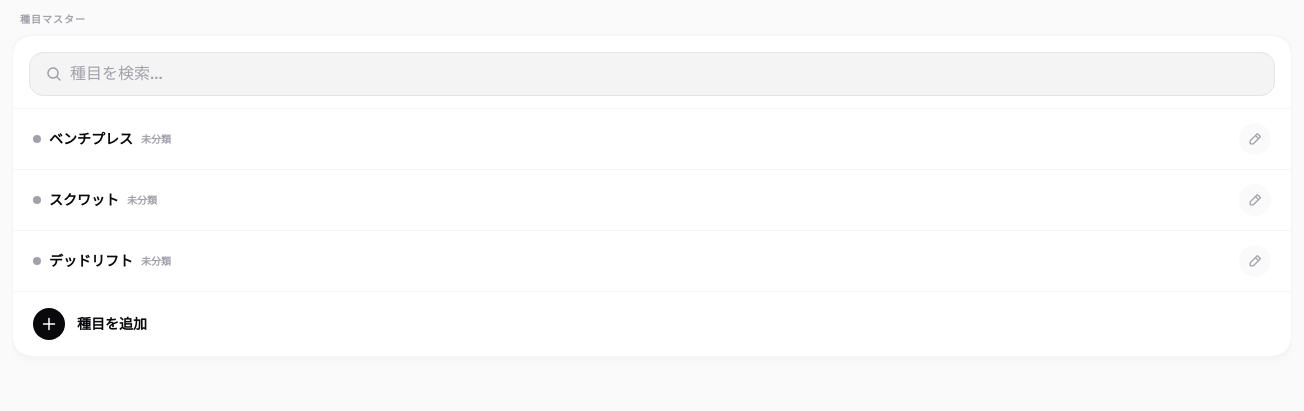
ExerciseMasterSection › 既存の名前に変更しようとするとインラインエラーを表示する
Click the button named "ベンチプレスを編集".
click(1255, 139)  # box [1239,123,1271,155]
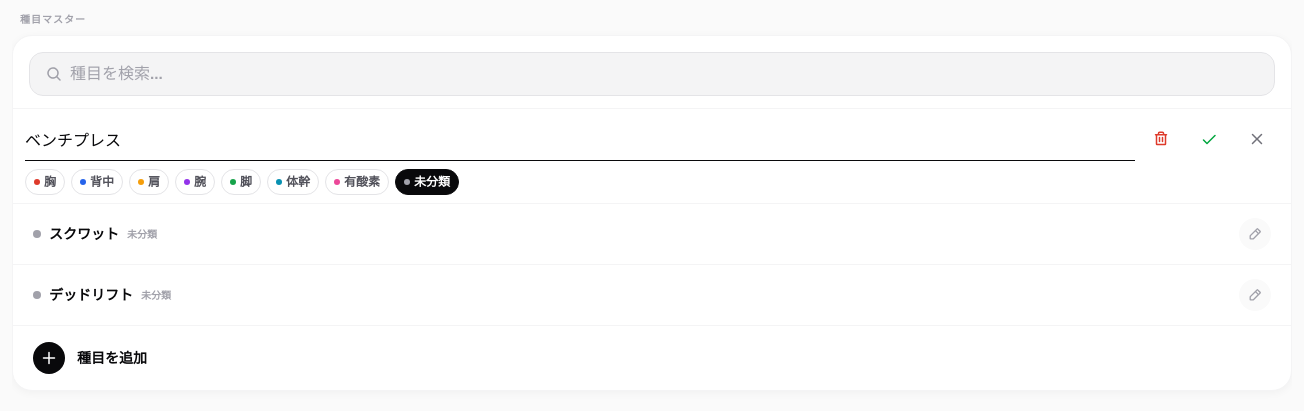
Replace the text in the field named "種目名を編集" with "スクワット" at (580, 139), box [25,117,1135,161]
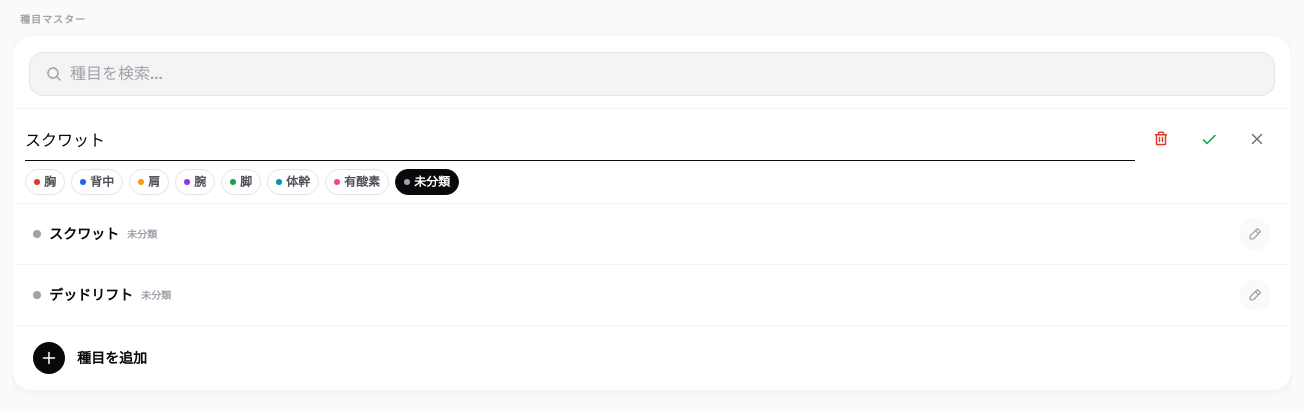
Click the button named "編集を確定".
click(1209, 139)  # box [1187,117,1231,161]
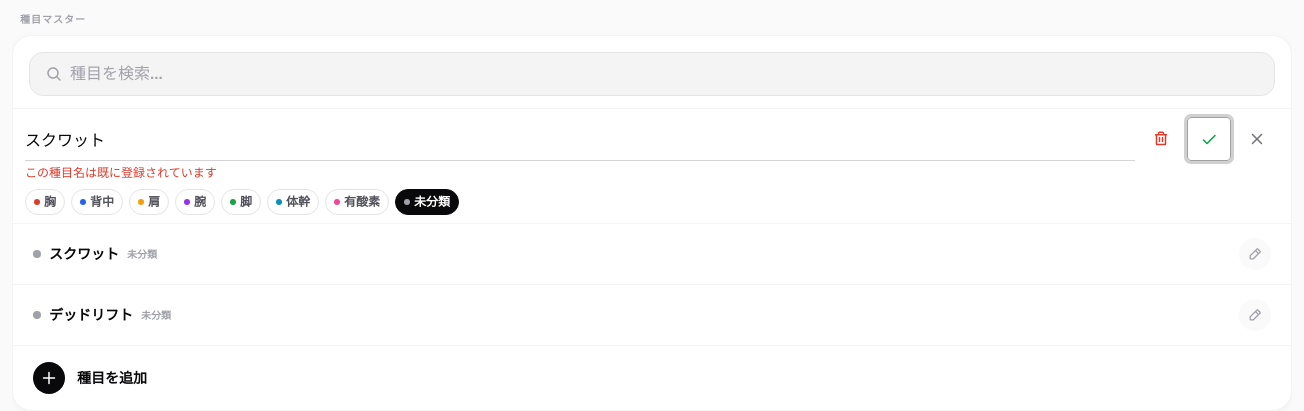
Check: the message reads "この種目名は既に登録されています", box [25,165,217,180]
